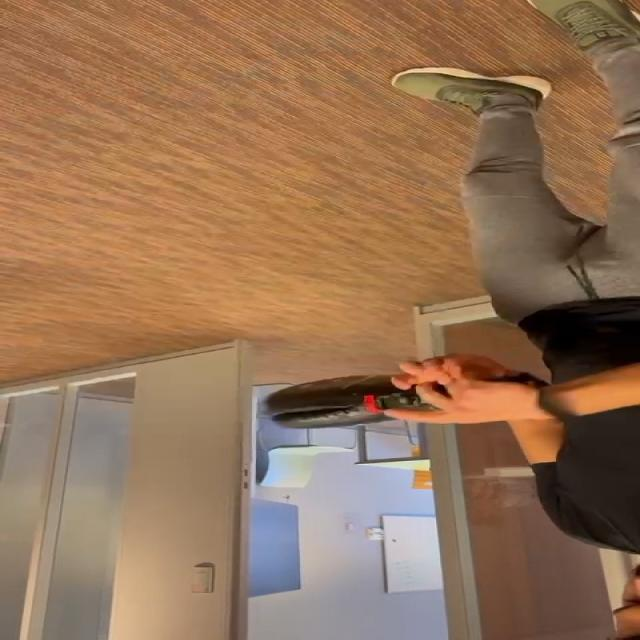paddle: (263, 378, 396, 428)
